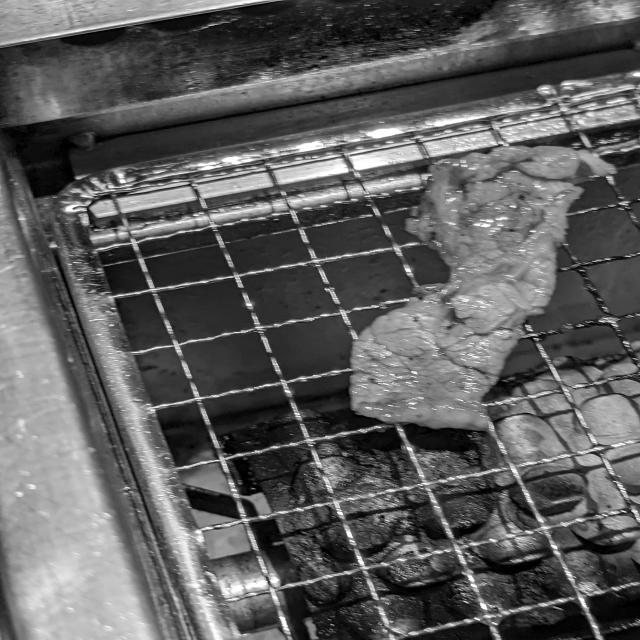OK cooked beef,: (330, 127, 630, 455)
